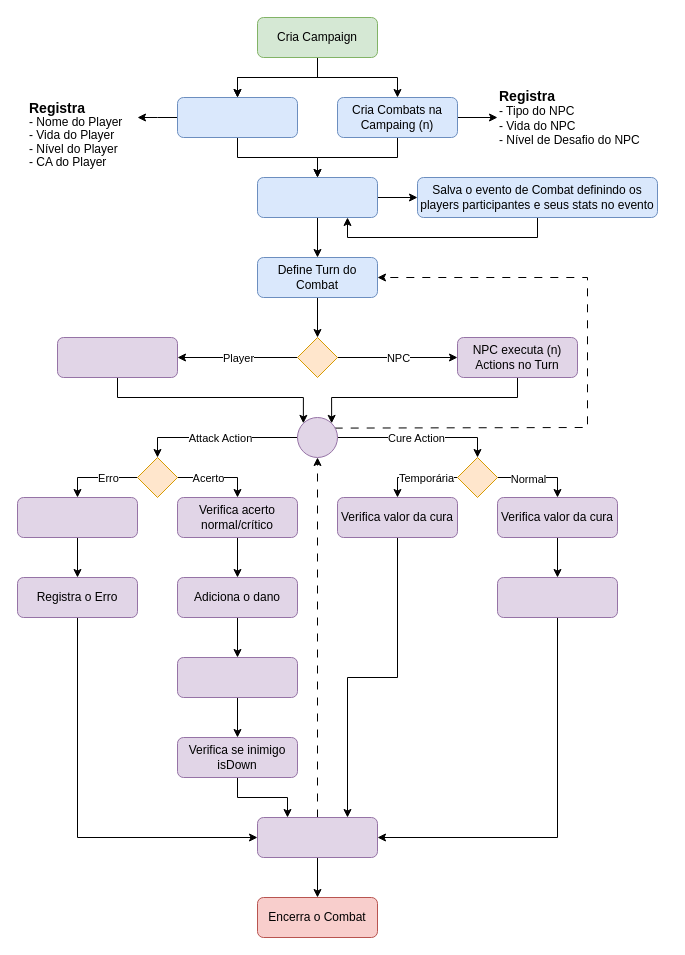
Some shapes in this 685 by 955 pixel diagram are drawn without their labels. The shapes that lost their labels are listed below. From the top down, each one's centre as x and y in pixels, then its label:
At pixel 237 117: "Cria Players da Campaign (n)".
At pixel 317 197: "Inicia o resgistro em um Combat".
At pixel 117 357: "Player executa (n) Actions no Turn".
At pixel 77 517: "Verifica erro normal/crítico".
At pixel 557 597: "Verifica valor excedente".
At pixel 237 677: "Adiciona o tipo de dano".
At pixel 317 837: "Registra Event".
